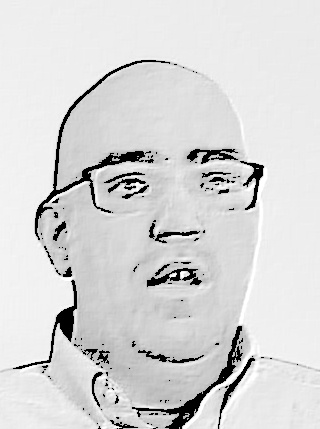nose_M_C: (145, 184, 207, 259)
